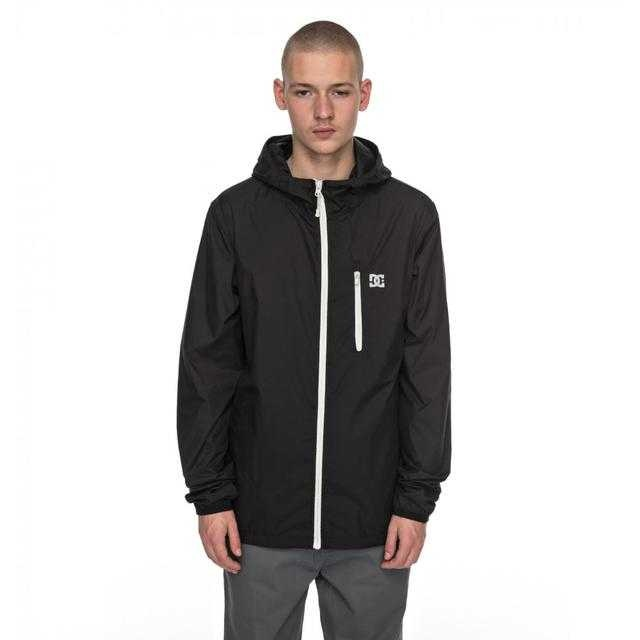jacket: (174, 132, 454, 525)
